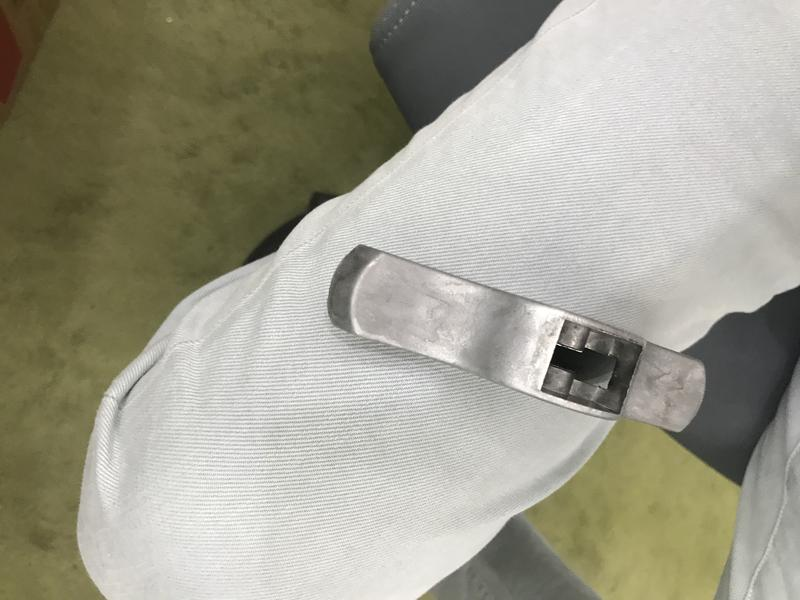zapchast: (322, 237, 716, 449)
